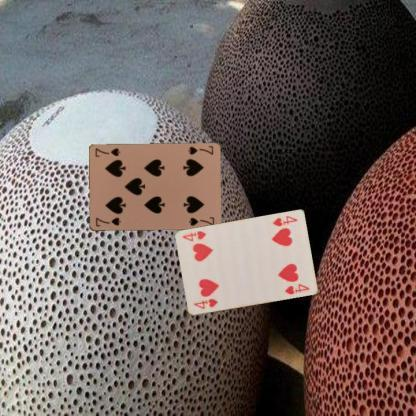4h: (271, 213, 298, 228), (191, 296, 219, 310)
7s: (185, 143, 214, 156), (93, 216, 122, 228)
